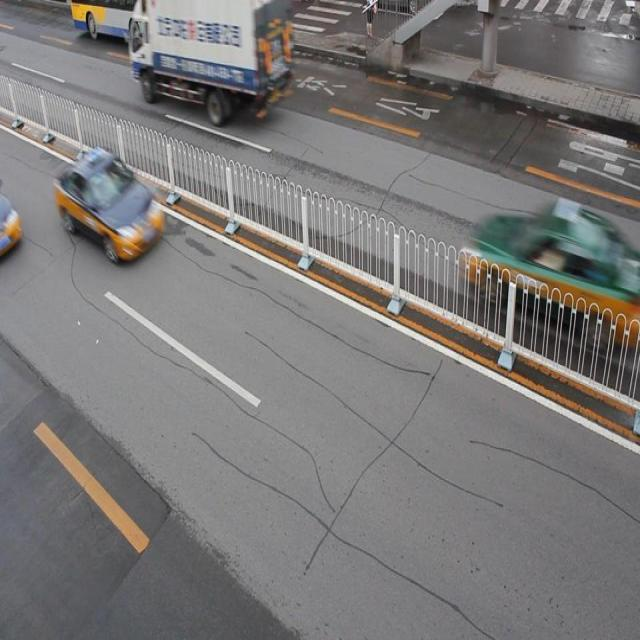bus: (130, 1, 292, 116)
car: (471, 202, 612, 330), (56, 147, 165, 261)
van: (70, 1, 272, 59)
